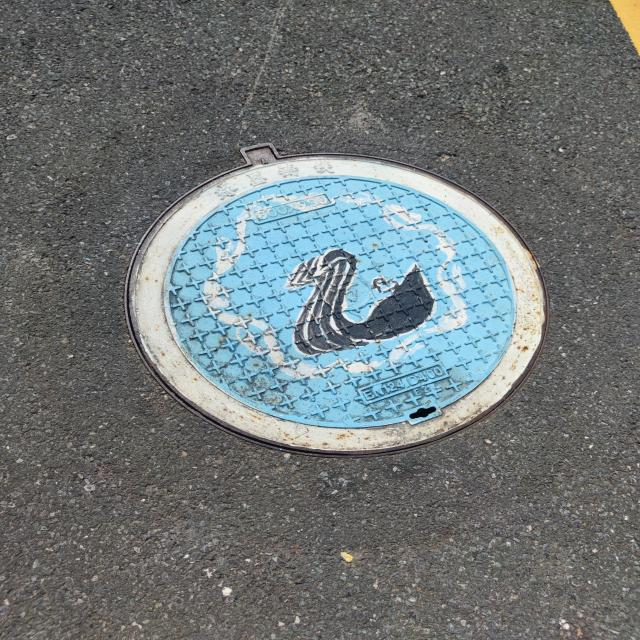Good: (117, 138, 560, 462)
